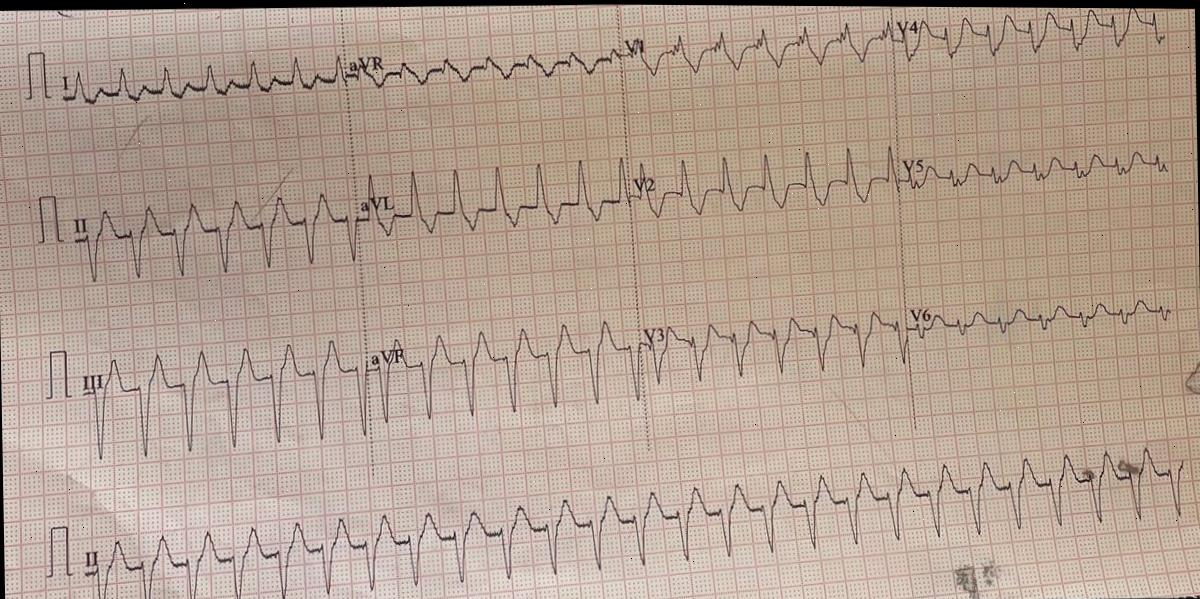Lead_I: (54, 46, 348, 118)
Lead_II: (62, 179, 366, 291)
Lead_III: (70, 334, 374, 465)
Lead_II_ext: (68, 426, 1193, 599)
Lead_V1: (621, 8, 896, 97)
Lead_V2: (632, 138, 904, 227)
Lead_V3: (636, 290, 911, 399)
Lead_V4: (893, 5, 1185, 87)
Lead_V5: (897, 123, 1180, 213)
Lead_V6: (906, 280, 1190, 346)
Lead_aVF: (366, 302, 650, 452)
Lead_aVL: (352, 144, 636, 264)
Lead_aVR: (344, 27, 624, 112)
